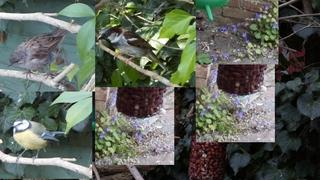blue tit: (10, 118, 66, 164)
dunnock: (7, 27, 68, 81)
sparrow: (97, 27, 169, 72)
